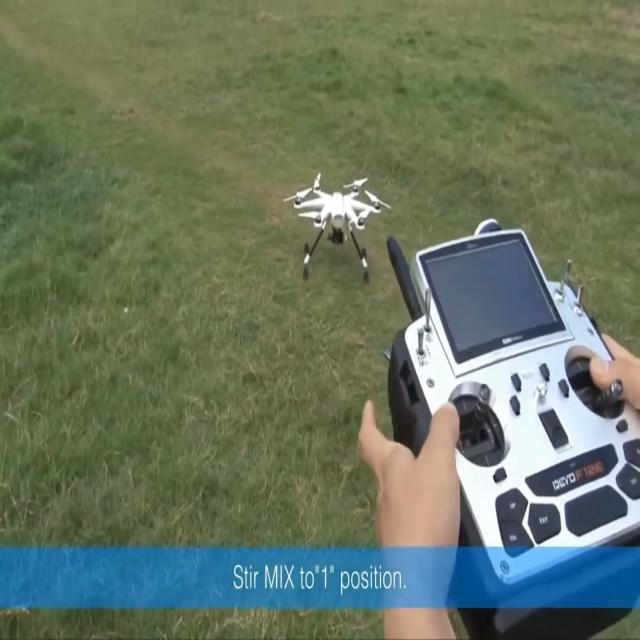drone: (283, 170, 391, 284)
